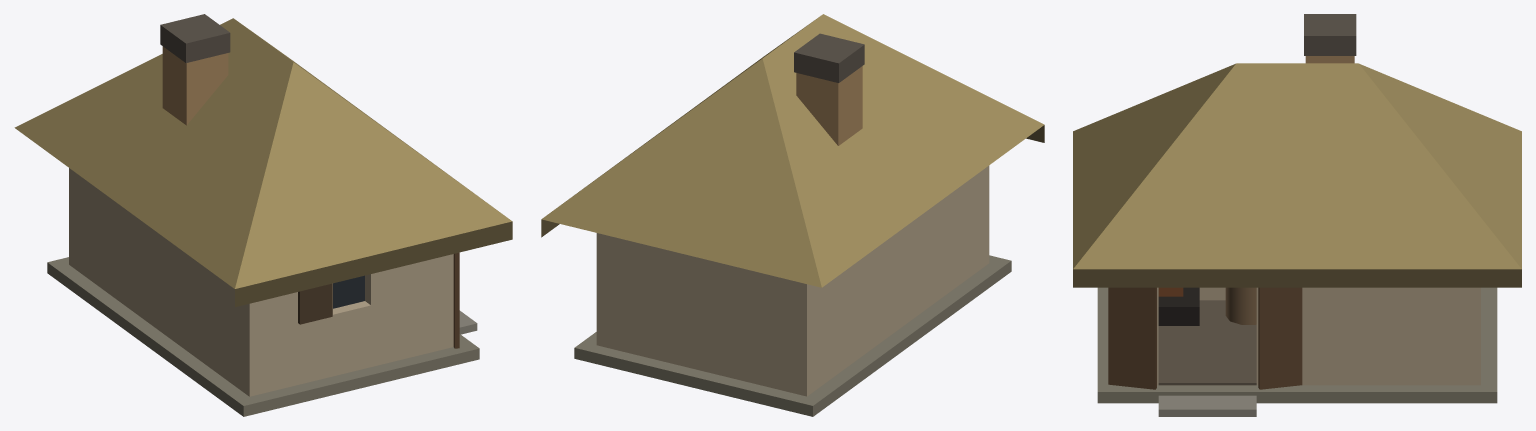
The model's file is kuznia.glb.
3 renders of one model, left to right at view 1: azimuth 30°, elevation 25°; view 2: azimuth 150°, elevation 25°; view 3: azimuth 270°, elevation 25°, orthographic.
Visible parts, largest first — view 1: roof_west, roof_south, wall_west, wall_south (×2), eave_s, pryzba_s, pryzba_w, chimney, wall_south_sill, chimney_soot, wall_east, wall_north (+3 smaller); view 2: roof_west, roof_north, wall_north, wall_west, pryzba_n, pryzba_w, chimney, chimney_soot, wall_east, wall_south; view 3: roof_east, wall_east, roof_south, roof_north, door_leaf (×2), eave_e, floor, pryzba_e, chimney_soot, step, pryzba_n, pryzba_s (+3 smaller).
Part boxes in pixels (x1=…): roof_west: x1=14, y1=18, x2=293, y2=288; roof_south: x1=235, y1=62, x2=512, y2=288; wall_west: x1=69, y1=169, x2=260, y2=395; wall_south (×2): x1=237, y1=258, x2=447, y2=396; eave_s: x1=235, y1=221, x2=512, y2=307; pryzba_s: x1=235, y1=342, x2=479, y2=416; pryzba_w: x1=55, y1=265, x2=249, y2=410; chimney: x1=162, y1=46, x2=228, y2=125; wall_south_sill: x1=333, y1=301, x2=370, y2=376; chimney_soot: x1=160, y1=14, x2=230, y2=62; wall_east: x1=437, y1=254, x2=453, y2=350; wall_north: x1=69, y1=168, x2=81, y2=273; roof_west: x1=762, y1=14, x2=1044, y2=287; roof_north: x1=541, y1=58, x2=821, y2=287; wall_north: x1=596, y1=234, x2=819, y2=396; wall_west: x1=786, y1=166, x2=989, y2=395; pryzba_n: x1=574, y1=342, x2=820, y2=416; pryzba_w: x1=807, y1=263, x2=1003, y2=410; chimney: x1=796, y1=66, x2=862, y2=145; chimney_soot: x1=794, y1=33, x2=864, y2=82; wall_east: x1=596, y1=233, x2=617, y2=350; wall_south: x1=977, y1=165, x2=989, y2=270; roof_east: x1=1073, y1=63, x2=1521, y2=269; wall_east: x1=1256, y1=287, x2=1480, y2=385; roof_south: x1=1073, y1=63, x2=1235, y2=268; roof_north: x1=1359, y1=63, x2=1521, y2=268; door_leaf (×2): x1=1108, y1=287, x2=1302, y2=389; eave_e: x1=1073, y1=269, x2=1521, y2=287; floor: x1=1158, y1=300, x2=1256, y2=385; pryzba_e: x1=1114, y1=385, x2=1480, y2=403; chimney_soot: x1=1304, y1=14, x2=1356, y2=55; step: x1=1158, y1=395, x2=1256, y2=416; pryzba_n: x1=1481, y1=287, x2=1497, y2=403; pryzba_s: x1=1097, y1=287, x2=1113, y2=403.
Bounding box in the file's own units: 4.1 × 3.97 × 5.5.
